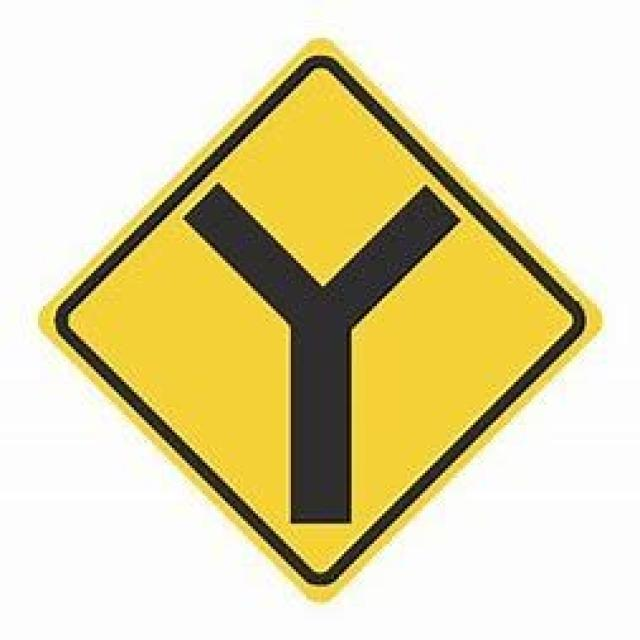y intersection: (39, 39, 597, 600)
